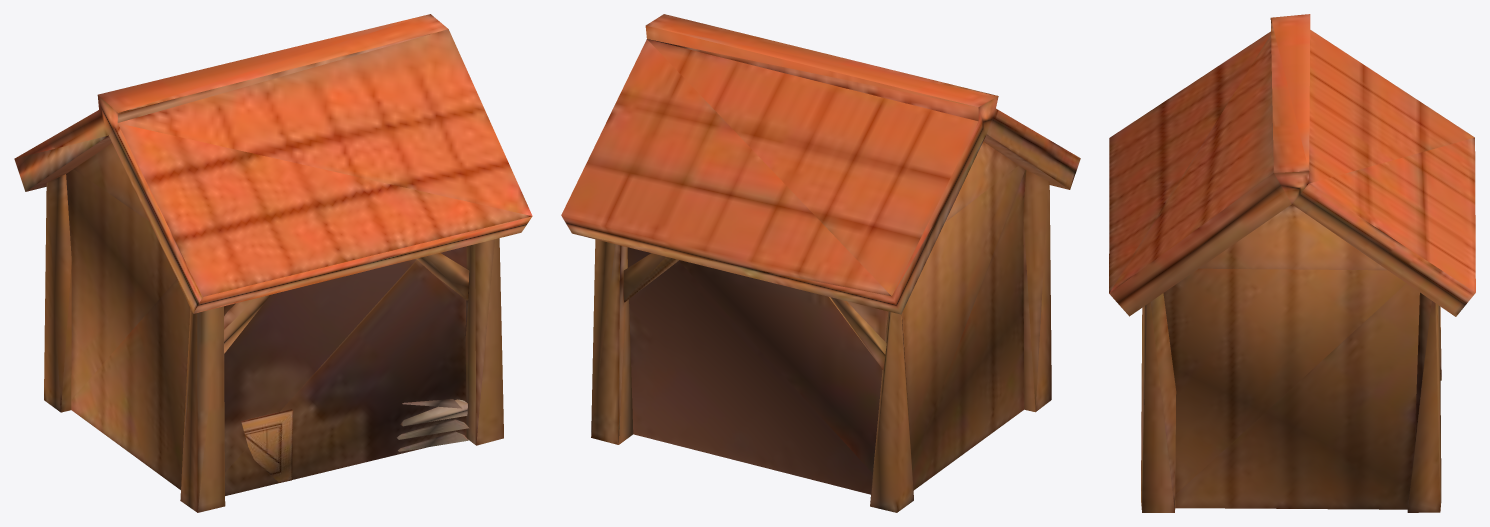
The model's file is supply.2.glb.
The picture shows the model from 3 angles, left to right: view 1: azimuth 30°, elevation 25°; view 2: azimuth 150°, elevation 25°; view 3: azimuth 270°, elevation 25°; orthographic projection. The views are drawn at different scales.
Parts seen in each view (by area): view 1: supply; view 2: supply; view 3: supply.
Boxes of the visible parts, x1,y1,x2,y2 form: supply: [14, 14, 532, 512]; supply: [561, 14, 1080, 512]; supply: [1109, 14, 1475, 512].
Bounding box in the file's own units: 0.9 × 0.9268 × 0.8865.
1 material, 1 textured.
